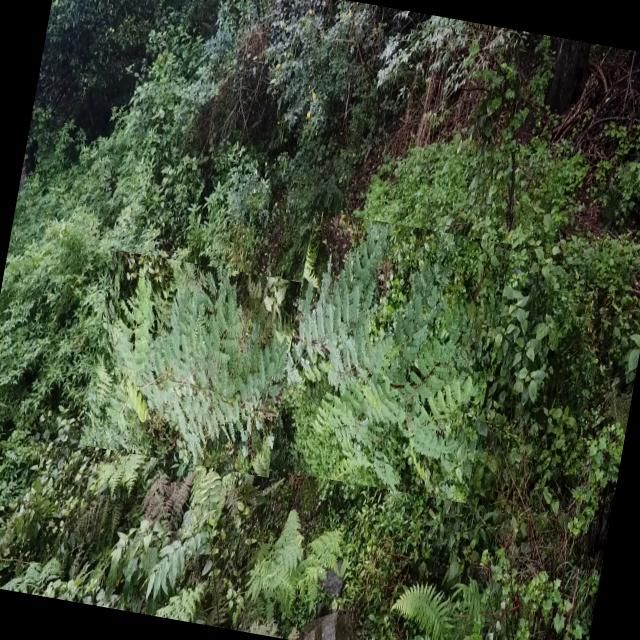Mysore-Thorn-Weed: (268, 209, 512, 503), (79, 249, 302, 477)
